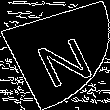N_N: (19, 24, 91, 86)
